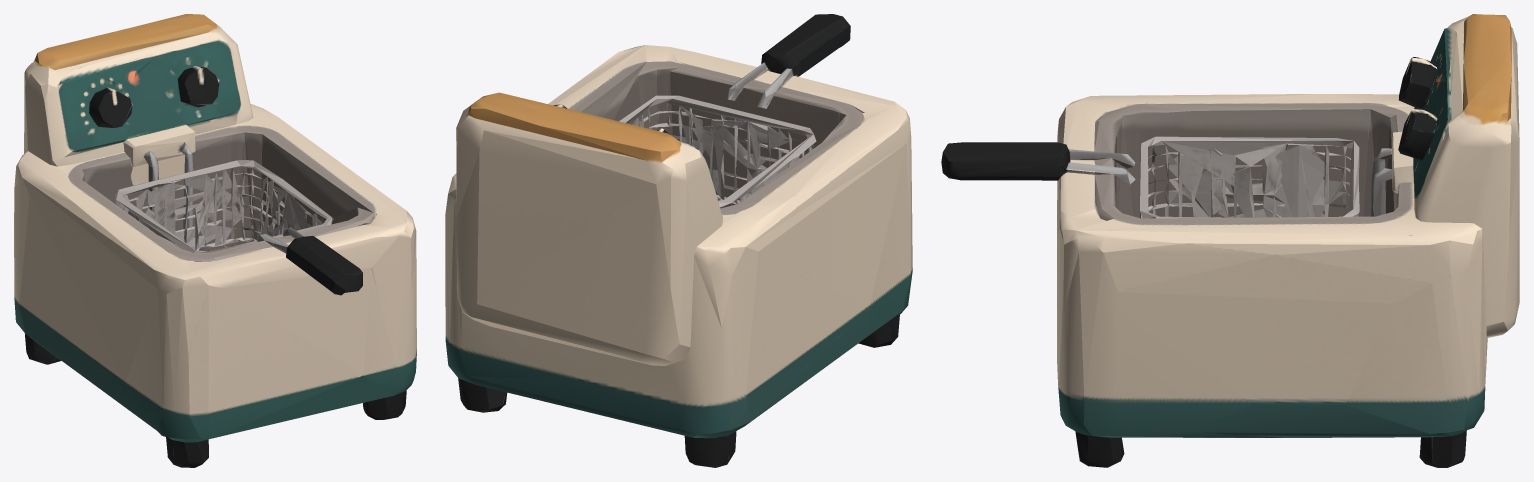
Rendered from rounded-restaurant-countertop-fryer-idle.glb.
3 renders of one model, left to right at view 1: azimuth 30°, elevation 25°; view 2: azimuth 150°, elevation 25°; view 3: azimuth 270°, elevation 25°, orthographic. The views are drawn at different scales.
Visible parts, largest first — view 1: Mesh_0; view 2: Mesh_0; view 3: Mesh_0.
Part boxes in pixels (<box>): Mesh_0: <box>14,14,416,467</box>; Mesh_0: <box>445,14,912,467</box>; Mesh_0: <box>941,14,1519,467</box>.
Bounding box in the file's own units: 0.3995 × 0.4302 × 0.65.
1 material, 1 textured.
